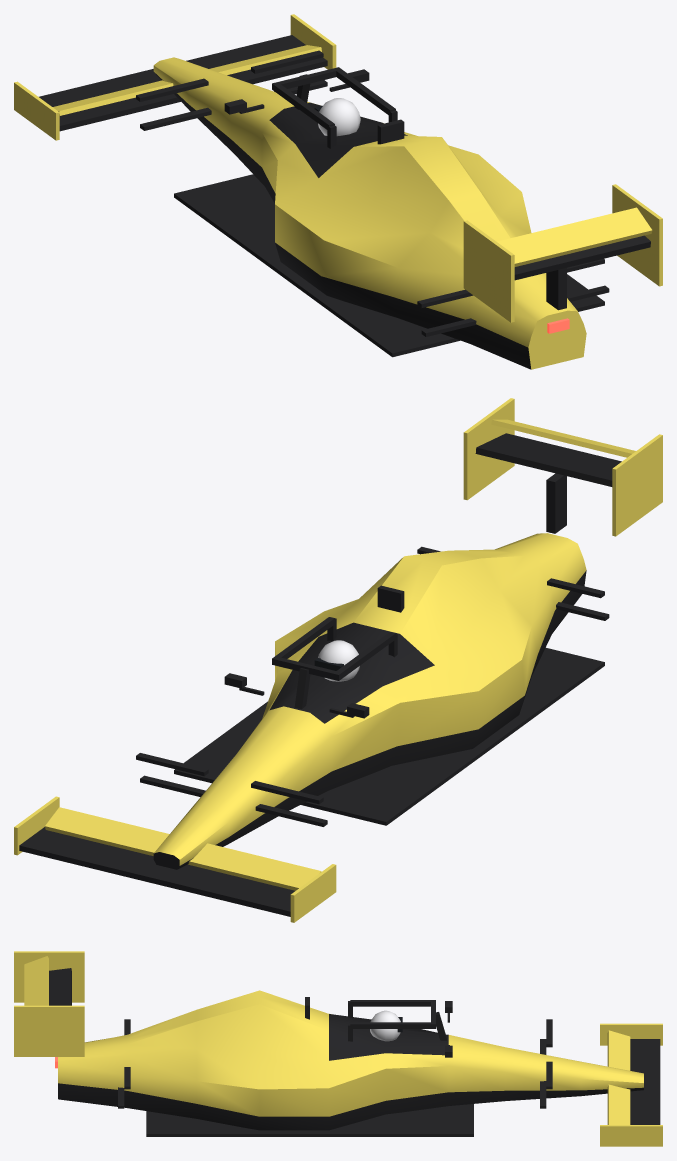
File: car_f1.glb
3 views of the same model, one above another, from view 1: azimuth 30°, elevation 25°; view 2: azimuth 150°, elevation 25°; view 3: azimuth 270°, elevation 25° (orthographic). The views are drawn at different scales.
Parts seen in each view (by area): view 1: novaBody; view 2: novaBody; view 3: novaBody.
Part boxes in pixels (x1,y1,x2,y2): novaBody: (14,14,662,369); novaBody: (14,398,662,922); novaBody: (14,951,662,1146).
Bounding box in the file's own units: 1.92 × 1.04 × 5.15.
